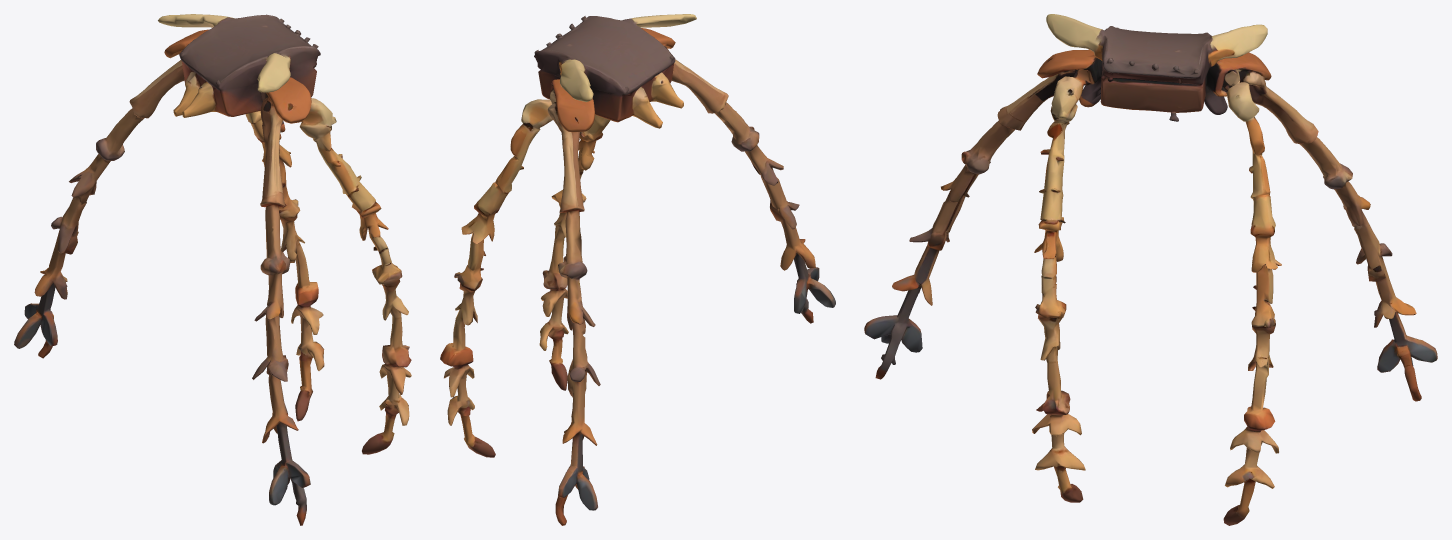
The model's file is legs.glb.
3 views of the same model, side by side, from view 1: azimuth 30°, elevation 25°; view 2: azimuth 150°, elevation 25°; view 3: azimuth 270°, elevation 25° (orthographic). The views are drawn at different scales.
Visible parts, largest first — view 1: tripo_node_80d1c2fb-3f81-4301-b604-76a52623d29d; view 2: tripo_node_80d1c2fb-3f81-4301-b604-76a52623d29d; view 3: tripo_node_80d1c2fb-3f81-4301-b604-76a52623d29d.
Part boxes in pixels (<box>): tripo_node_80d1c2fb-3f81-4301-b604-76a52623d29d: <box>14,14,411,525</box>; tripo_node_80d1c2fb-3f81-4301-b604-76a52623d29d: <box>440,14,835,525</box>; tripo_node_80d1c2fb-3f81-4301-b604-76a52623d29d: <box>864,14,1437,525</box>.
Size of the model in its own units: 0.4874 by 0.8664 by 1.
Materials: 1 (1 with a texture image).
